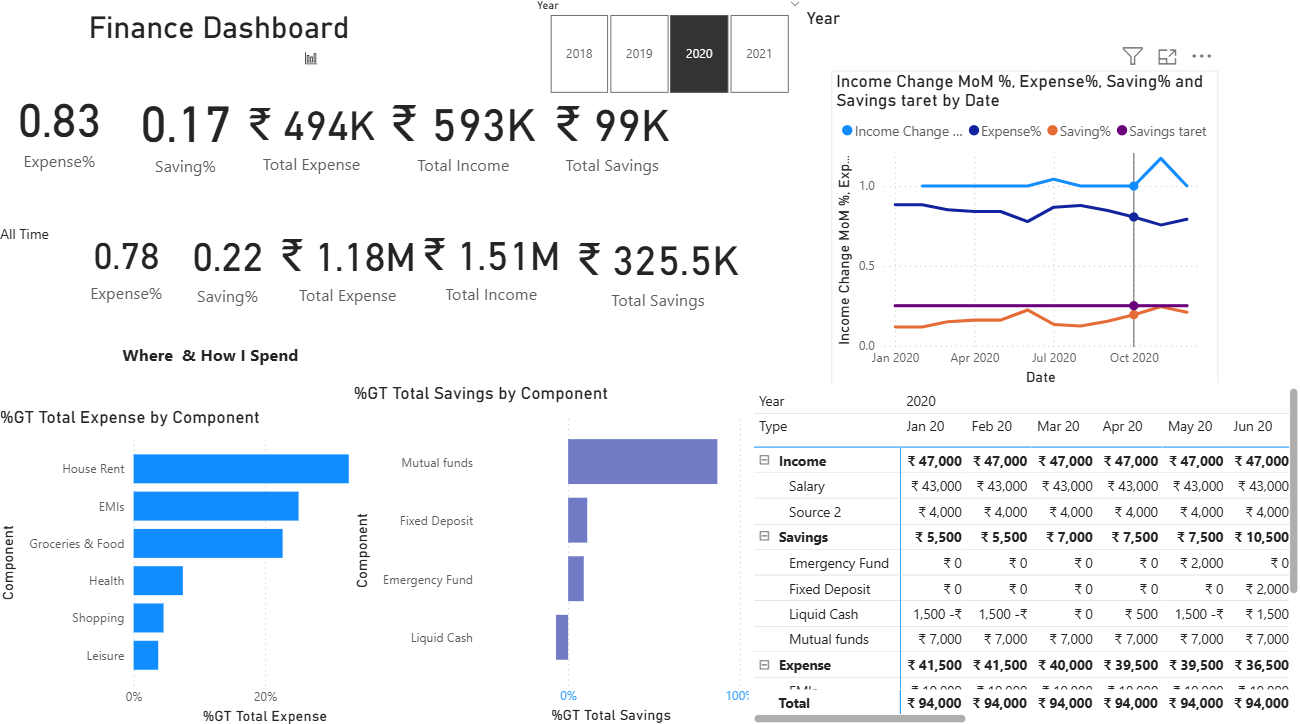

The page's visual inventory and layout, read from the dashboard file:
{"tool":"powerbi","page":{"name":"Finance Dashboard","canvas":[1280,720],"ordinal":0},"visuals":[{"type":"card","fields":{"Values":["Key Measures.Saving%"]},"box":[119.6,63.3,133.4,138.9],"z":0},{"type":"card","fields":{"Values":["Key Measures.Expense%"]},"box":[71.5,196.6,115.5,136.1],"z":1000},{"type":"card","fields":{"Values":["Key Measures.Total Expense"]},"box":[239.3,75.6,140.3,121],"z":2000},{"type":"card","fields":{"Values":["Key Measures.Total Income"]},"box":[376.8,74.3,163.6,121],"z":3000},{"type":"card","fields":{"Values":["Key Measures.Total Savings"]},"box":[537.7,78.4,132,115.5],"z":4000},{"type":"slicer","fields":{"Values":["FinData.Year"]},"box":[517.1,0,282.9,104.3],"z":5000},{"type":"lineChart","fields":{"Category":["FinData.Date.Variation.Date Hierarchy.Year","FinData.Date.Variation.Date Hierarchy.Month","FinData.Date.Variation.Date Hierarchy.Day"]},"box":[788.6,14.3,112.9,87.1],"z":6000},{"type":"card","fields":{"Values":["Key Measures.Expense%"]},"box":[0,63.3,126.5,133.4],"z":7000},{"type":"card","fields":{"Values":["Key Measures.Saving%"]},"box":[170.5,193.9,115.5,143],"z":8000},{"type":"card","fields":{"Values":["Key Measures.Total Expense"]},"box":[269.5,211.8,152.6,107.3],"z":9000},{"type":"card","fields":{"Values":["Key Measures.Total Income"]},"box":[412.5,203.5,147.1,123.8],"z":10000},{"type":"card","fields":{"Values":["Key Measures.Total Savings"]},"box":[559.7,213.2,177.4,112.8],"z":11000},{"type":"textbox","box":[48,526.9,78.2,53.5],"z":12000},{"type":"textbox","box":[0,221.4,86.6,48.1],"z":13000},{"type":"clusteredColumnChart","title":"Finance Dashboard","box":[86.4,16.2,444.3,62.1],"z":14000},{"type":"clusteredBarChart","fields":{"Category":["FinData.Component"],"Y":["Key Measures.Total Expense"]},"box":[0,404.3,410,315.7],"z":15000},{"type":"textbox","box":[119.6,336.9,277.8,44],"z":16000},{"type":"clusteredBarChart","fields":{"Category":["FinData.Component"],"Y":["Key Measures.Total Savings"]},"box":[345.7,381.4,402.9,338.6],"z":17000},{"type":"lineChart","fields":{"Y":["Key Measures.Income Change MoM %","Key Measures.Expense%","Key Measures.Saving%","Key Measures.Savings taret"],"Category":["FinData.Date"]},"box":[818.6,75.7,377.1,312.9],"z":18000},{"type":"pivotTable","fields":{"Values":["Key Measures.Values"],"Rows":["Type.Type","FinData.Component"],"Columns":["FinData.Year","FinData.Date"]},"box":[737.1,381.4,542.9,338.6],"z":19000}]}

Visuals, with their boxes in screenshot pixels (x1, y1, x2, y2), scaled from the page's 1280x720 canvas onto the 1300x724 screenshot:
card - Key Measures.Saving%: crop(121, 64, 257, 203)
card - Key Measures.Expense%: crop(73, 198, 190, 335)
card - Key Measures.Total Expense: crop(243, 76, 386, 198)
card - Key Measures.Total Income: crop(383, 75, 549, 196)
card - Key Measures.Total Savings: crop(546, 79, 680, 195)
slicer - FinData.Year: crop(525, 0, 812, 105)
lineChart - FinData.Date.Variation.Date Hierarchy.Year x FinData.Date.Variation.Date Hierarchy.Month: crop(801, 14, 916, 102)
card - Key Measures.Expense%: crop(0, 64, 128, 198)
card - Key Measures.Saving%: crop(173, 195, 290, 339)
card - Key Measures.Total Expense: crop(274, 213, 429, 321)
card - Key Measures.Total Income: crop(419, 205, 568, 329)
card - Key Measures.Total Savings: crop(568, 214, 749, 328)
textbox: crop(49, 530, 128, 584)
textbox: crop(0, 223, 88, 271)
"Finance Dashboard" clusteredColumnChart: crop(88, 16, 539, 79)
clusteredBarChart - FinData.Component x Key Measures.Total Expense: crop(0, 407, 416, 723)
textbox: crop(121, 339, 404, 383)
clusteredBarChart - FinData.Component x Key Measures.Total Savings: crop(351, 384, 760, 723)
lineChart - Key Measures.Income Change MoM % x Key Measures.Expense%: crop(831, 76, 1214, 391)
pivotTable - Key Measures.Values x Type.Type: crop(749, 384, 1299, 723)
